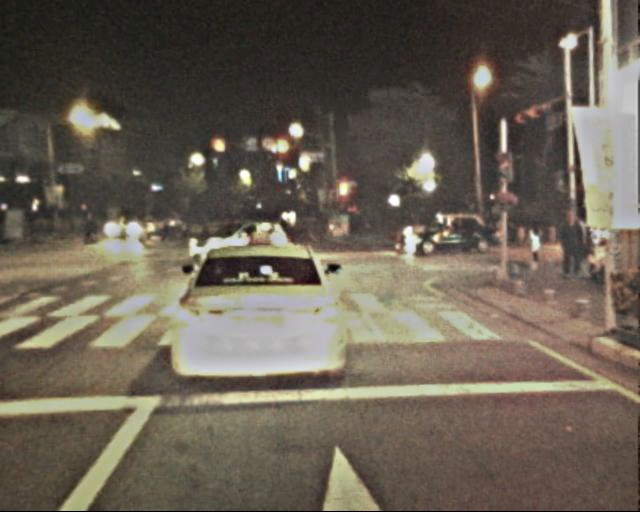person: (557, 211, 584, 277), (175, 210, 208, 244), (524, 221, 545, 272), (80, 208, 99, 245)
